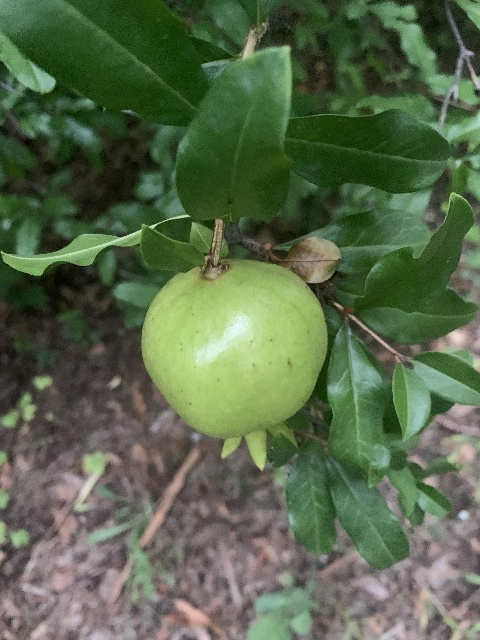mid-growth: (140, 259, 328, 468)
